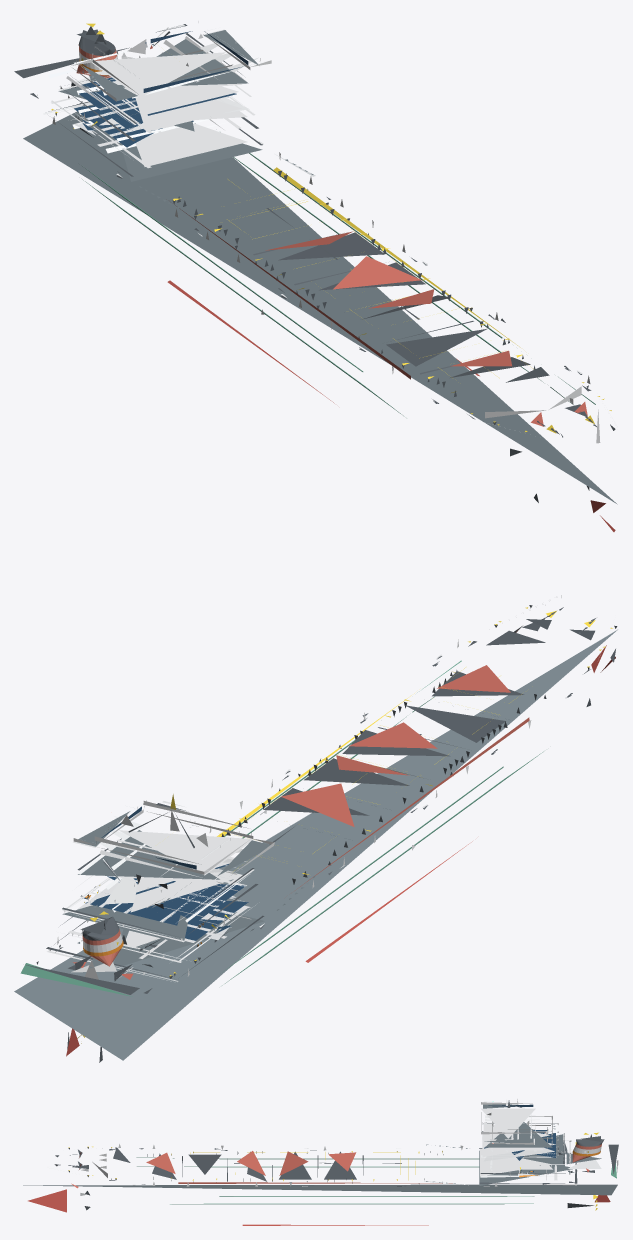
The model's file is ship_33.glb.
3 renders of one model, top to bottom at view 1: azimuth 30°, elevation 25°; view 2: azimuth 150°, elevation 25°; view 3: azimuth 270°, elevation 25°, orthographic. The views are drawn at different scales.
Parts seen in each view (by area): view 1: TrueHelm_Ship_33; view 2: TrueHelm_Ship_33; view 3: TrueHelm_Ship_33.
Boxes of the visible parts, <box> form: TrueHelm_Ship_33: <box>14,21,617,531</box>; TrueHelm_Ship_33: <box>14,595,617,1062</box>; TrueHelm_Ship_33: <box>23,1099,618,1225</box>.
Bounding box in the file's own units: 0.1616 × 0.2046 × 0.9818.
